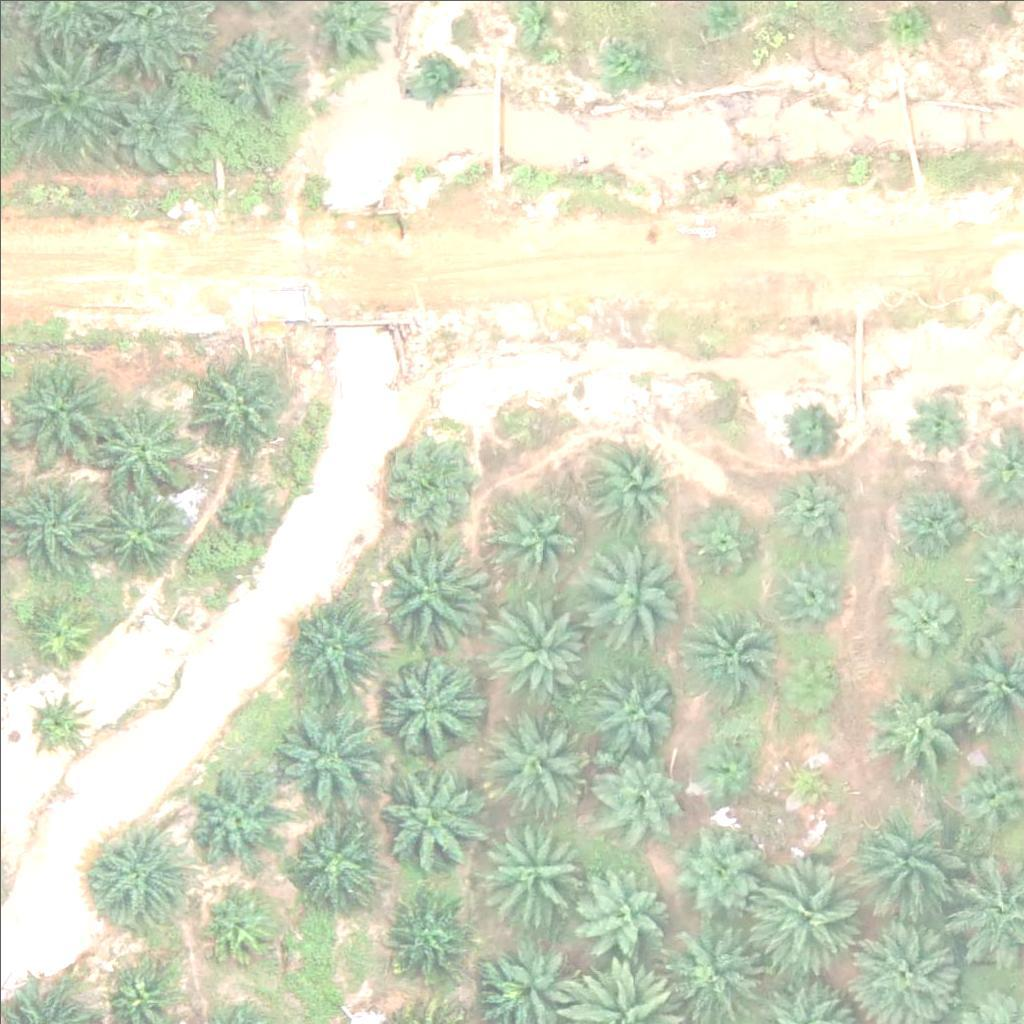Kelapa_Sawit: (3, 351, 116, 464), (274, 705, 387, 818), (373, 761, 486, 874), (369, 650, 482, 763), (854, 814, 966, 928), (8, 35, 120, 148), (371, 538, 483, 651), (753, 860, 865, 973), (108, 82, 208, 183), (5, 468, 105, 569), (90, 477, 190, 578), (288, 596, 388, 697), (188, 351, 288, 452), (380, 423, 480, 524), (483, 816, 583, 917), (488, 704, 588, 805), (492, 596, 592, 697), (664, 823, 764, 924), (872, 675, 972, 776), (673, 609, 773, 710), (88, 820, 188, 920), (95, 398, 195, 498), (182, 767, 282, 867), (581, 545, 681, 645), (289, 812, 377, 900), (596, 749, 684, 837), (771, 466, 859, 554), (215, 23, 302, 112), (594, 661, 681, 750), (387, 893, 474, 981), (487, 491, 574, 579), (585, 442, 672, 530), (579, 869, 666, 957), (762, 547, 849, 635), (891, 576, 966, 652), (889, 488, 964, 564), (690, 728, 765, 804), (201, 888, 276, 964), (771, 641, 846, 717), (683, 507, 758, 582), (22, 589, 97, 664), (207, 465, 282, 540), (25, 688, 88, 751), (912, 393, 975, 456), (780, 397, 842, 460), (777, 753, 839, 816), (413, 56, 463, 106), (602, 39, 652, 89), (892, 6, 929, 44)
